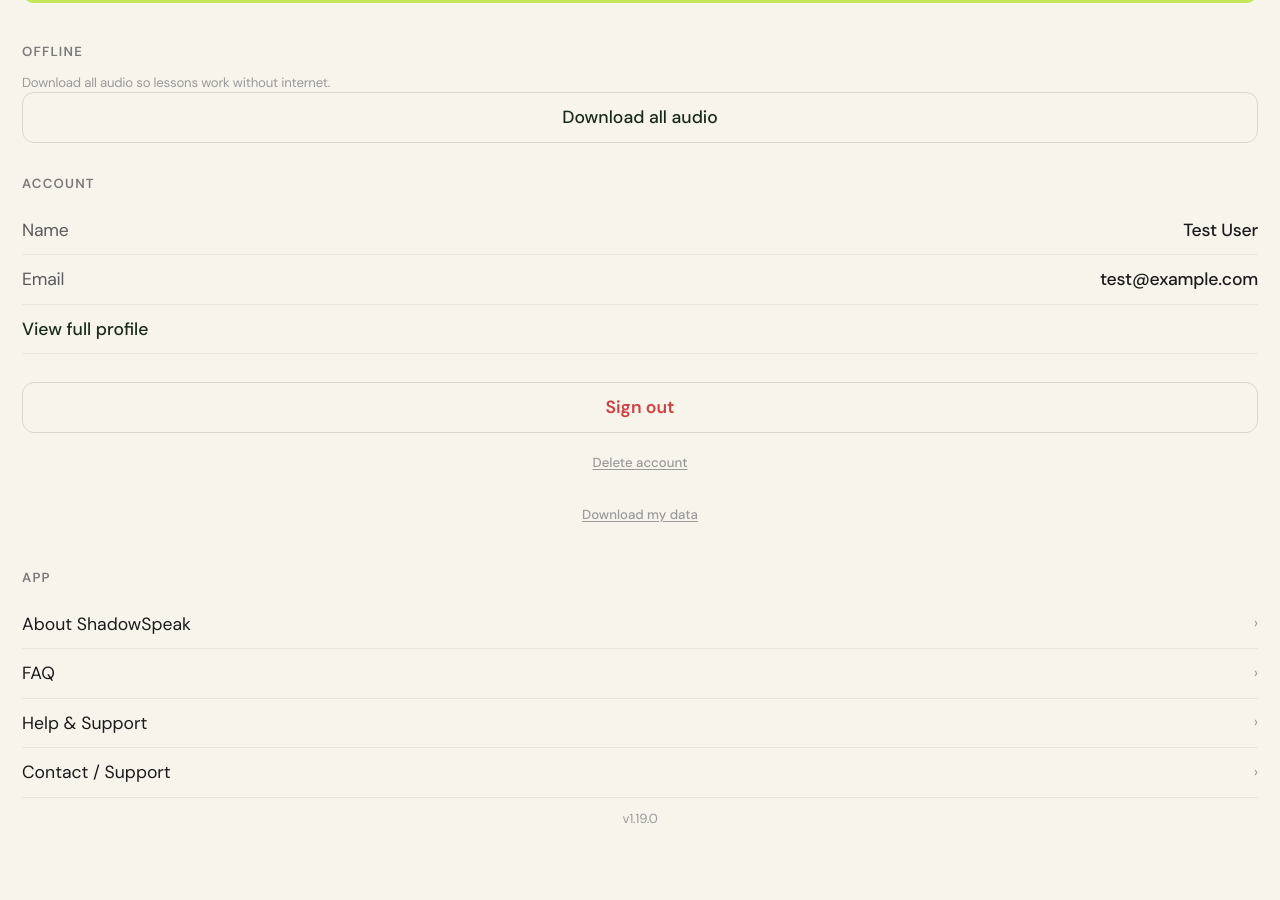
Test: SettingsScreen — Delete Account flow › shows warning modal when the Delete account button is clicked
The width and height of the screenshot is (1280, 900).
(page scrolled)
Click the button "Delete account": (640, 463) [22,441,1258,485]
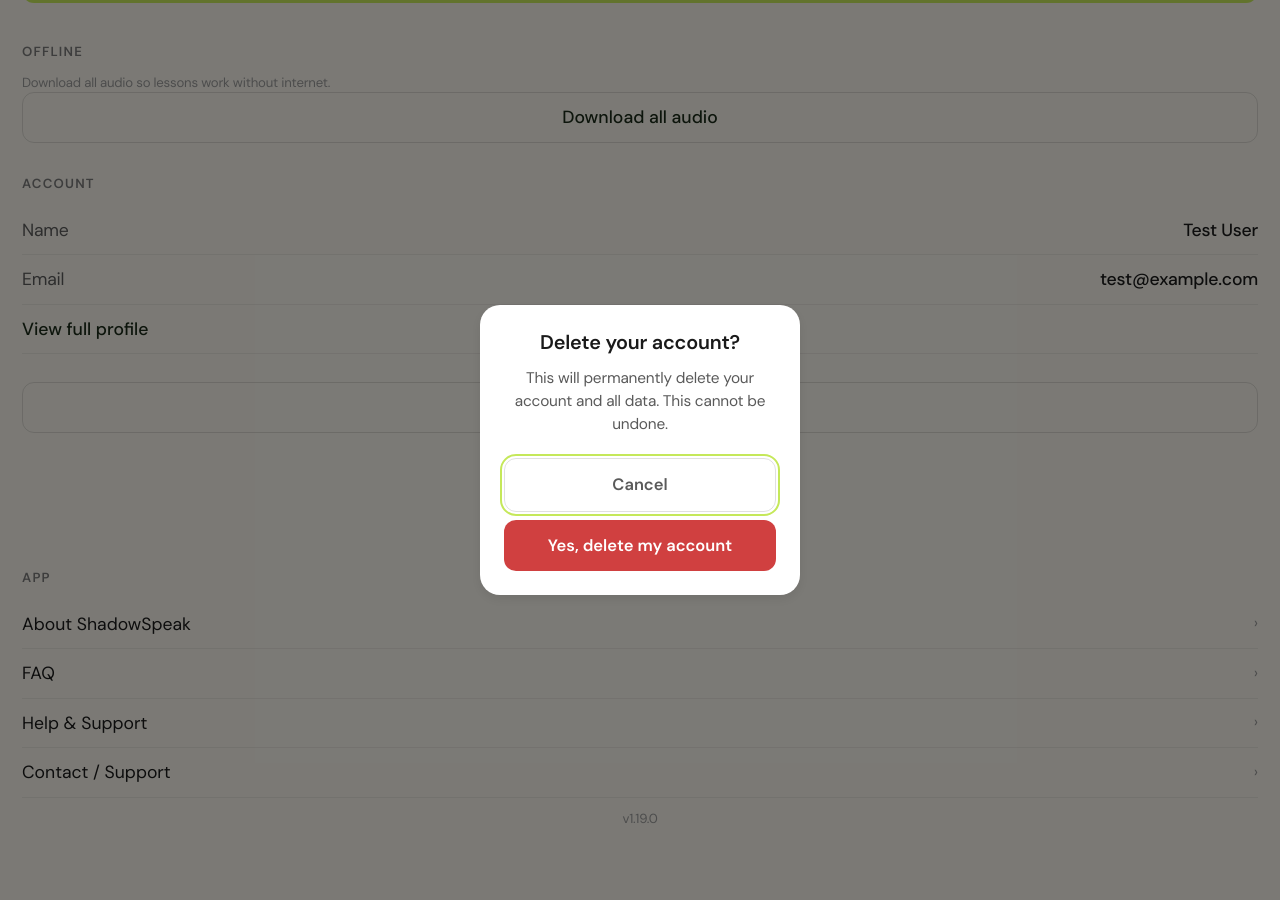
Now the text "permanently delete your account and all data" is shown, box [515,368,765,434]
Now the button "Yes, delete my account" is shown, box [504,520,776,571]
